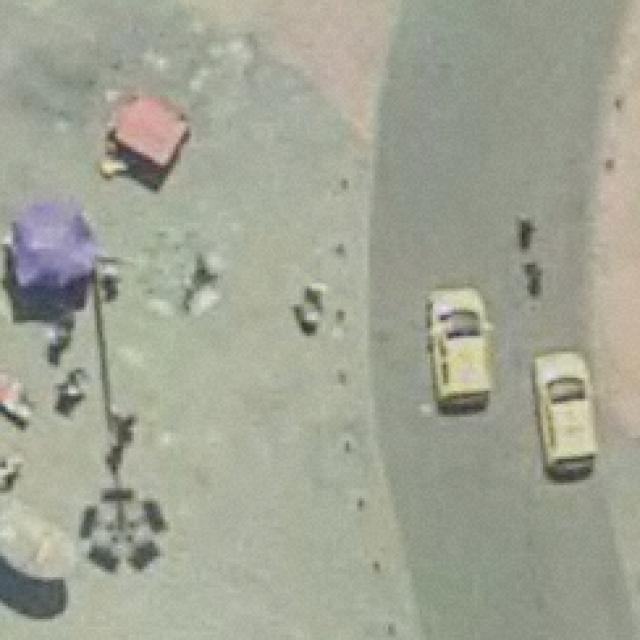vendedor_ambulante: (0, 197, 105, 299)
